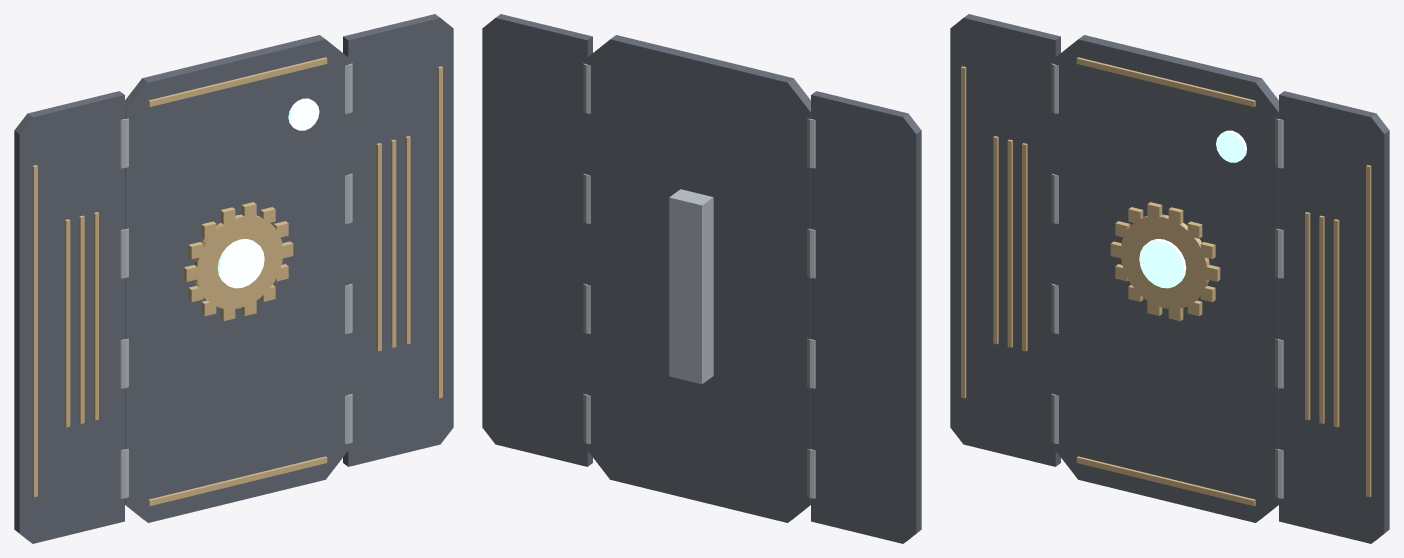
File: folding_shield.glb
The picture shows the model from 3 angles, left to right: view 1: azimuth 30°, elevation 25°; view 2: azimuth 150°, elevation 25°; view 3: azimuth 330°, elevation 25°; orthographic projection.
Visible parts, largest first — view 1: centre, flap_L, flap_R; view 2: centre, flap_L, flap_R; view 3: centre, flap_R, flap_L.
Boxes of the visible parts, x1=… form: centre: x1=120, y1=35, x2=352, y2=522; flap_L: x1=14, y1=91, x2=124, y2=543; flap_R: x1=343, y1=14, x2=453, y2=466; centre: x1=583, y1=35, x2=815, y2=522; flap_L: x1=811, y1=91, x2=921, y2=543; flap_R: x1=482, y1=14, x2=592, y2=466; centre: x1=1051, y1=35, x2=1283, y2=522; flap_R: x1=1279, y1=91, x2=1389, y2=543; flap_L: x1=950, y1=14, x2=1060, y2=466.
Size of the model in its own units: 0.66 by 0.64 by 0.065.
